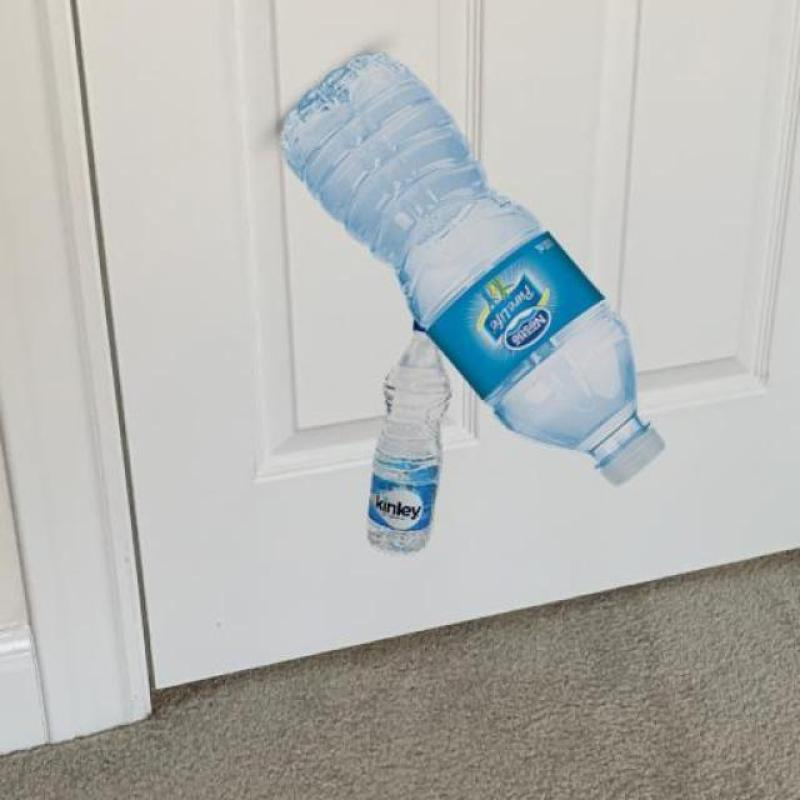botella: (272, 48, 666, 484), (365, 322, 454, 554)
